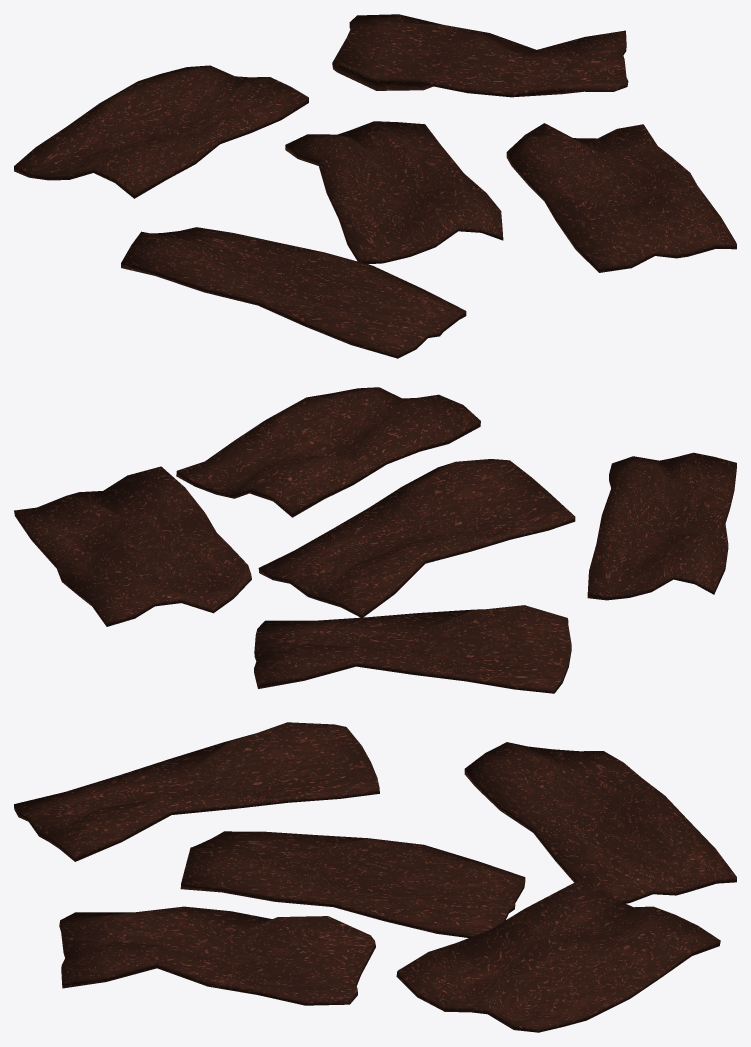
The model's file is yakiniku_02.glb.
The picture shows the model from 3 angles, top to bottom: view 1: azimuth 30°, elevation 25°; view 2: azimuth 150°, elevation 25°; view 3: azimuth 270°, elevation 25°; orthographic projection. The views are drawn at different scales.
Visible parts, largest first — view 1: yakiniku.001; view 2: yakiniku.001; view 3: yakiniku.001.
Boxes of the visible parts, x1,y1,x2,y2 form: yakiniku.001: (14,14,736,358); yakiniku.001: (14,387,736,693); yakiniku.001: (14,722,736,1032).
Size of the model in its own units: 0.1808 by 0.0133 by 0.1797.
Materials: 1 (1 with a texture image).
